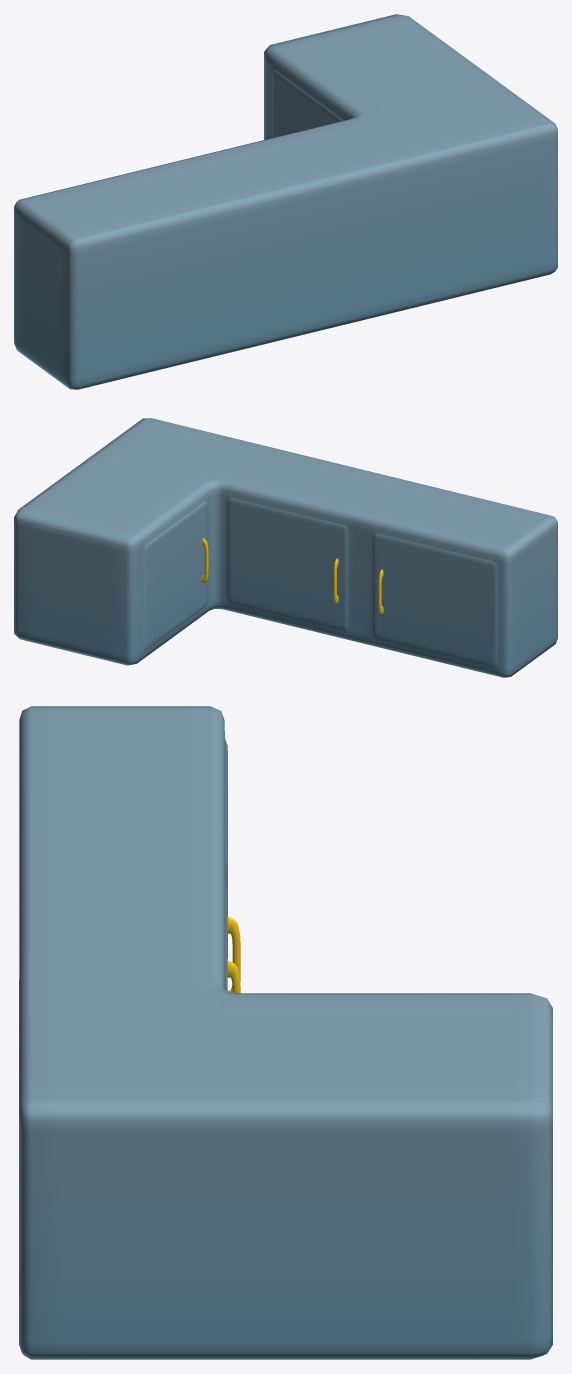
The model's file is PR_cabinet_01.fbx.
3 views of the same model, one above another, from view 1: azimuth 30°, elevation 25°; view 2: azimuth 150°, elevation 25°; view 3: azimuth 270°, elevation 25° (orthographic). The views are drawn at different scales.
Visible parts, largest first — view 1: Cabinet_geo_01:Cabinet_geo; view 2: Cabinet_geo_01:Cabinet_geo; view 3: Cabinet_geo_01:Cabinet_geo.
Boxes of the visible parts, box(x1,y1,x2,y2) form: Cabinet_geo_01:Cabinet_geo: box(14, 14, 557, 389); Cabinet_geo_01:Cabinet_geo: box(14, 418, 557, 677); Cabinet_geo_01:Cabinet_geo: box(19, 706, 552, 1359).
Bounding box in the file's own units: 36771 × 10819 × 20418.
2 materials, 2 textured.
